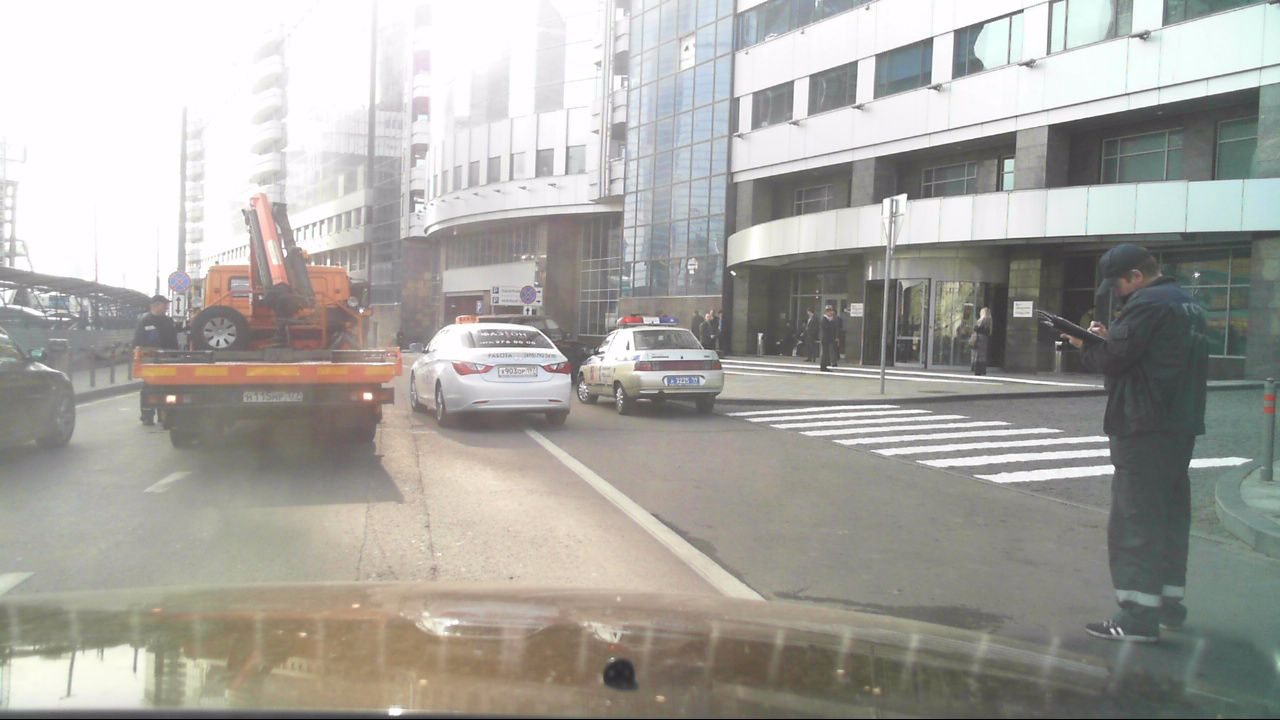No Parking: (518, 285, 536, 308)
